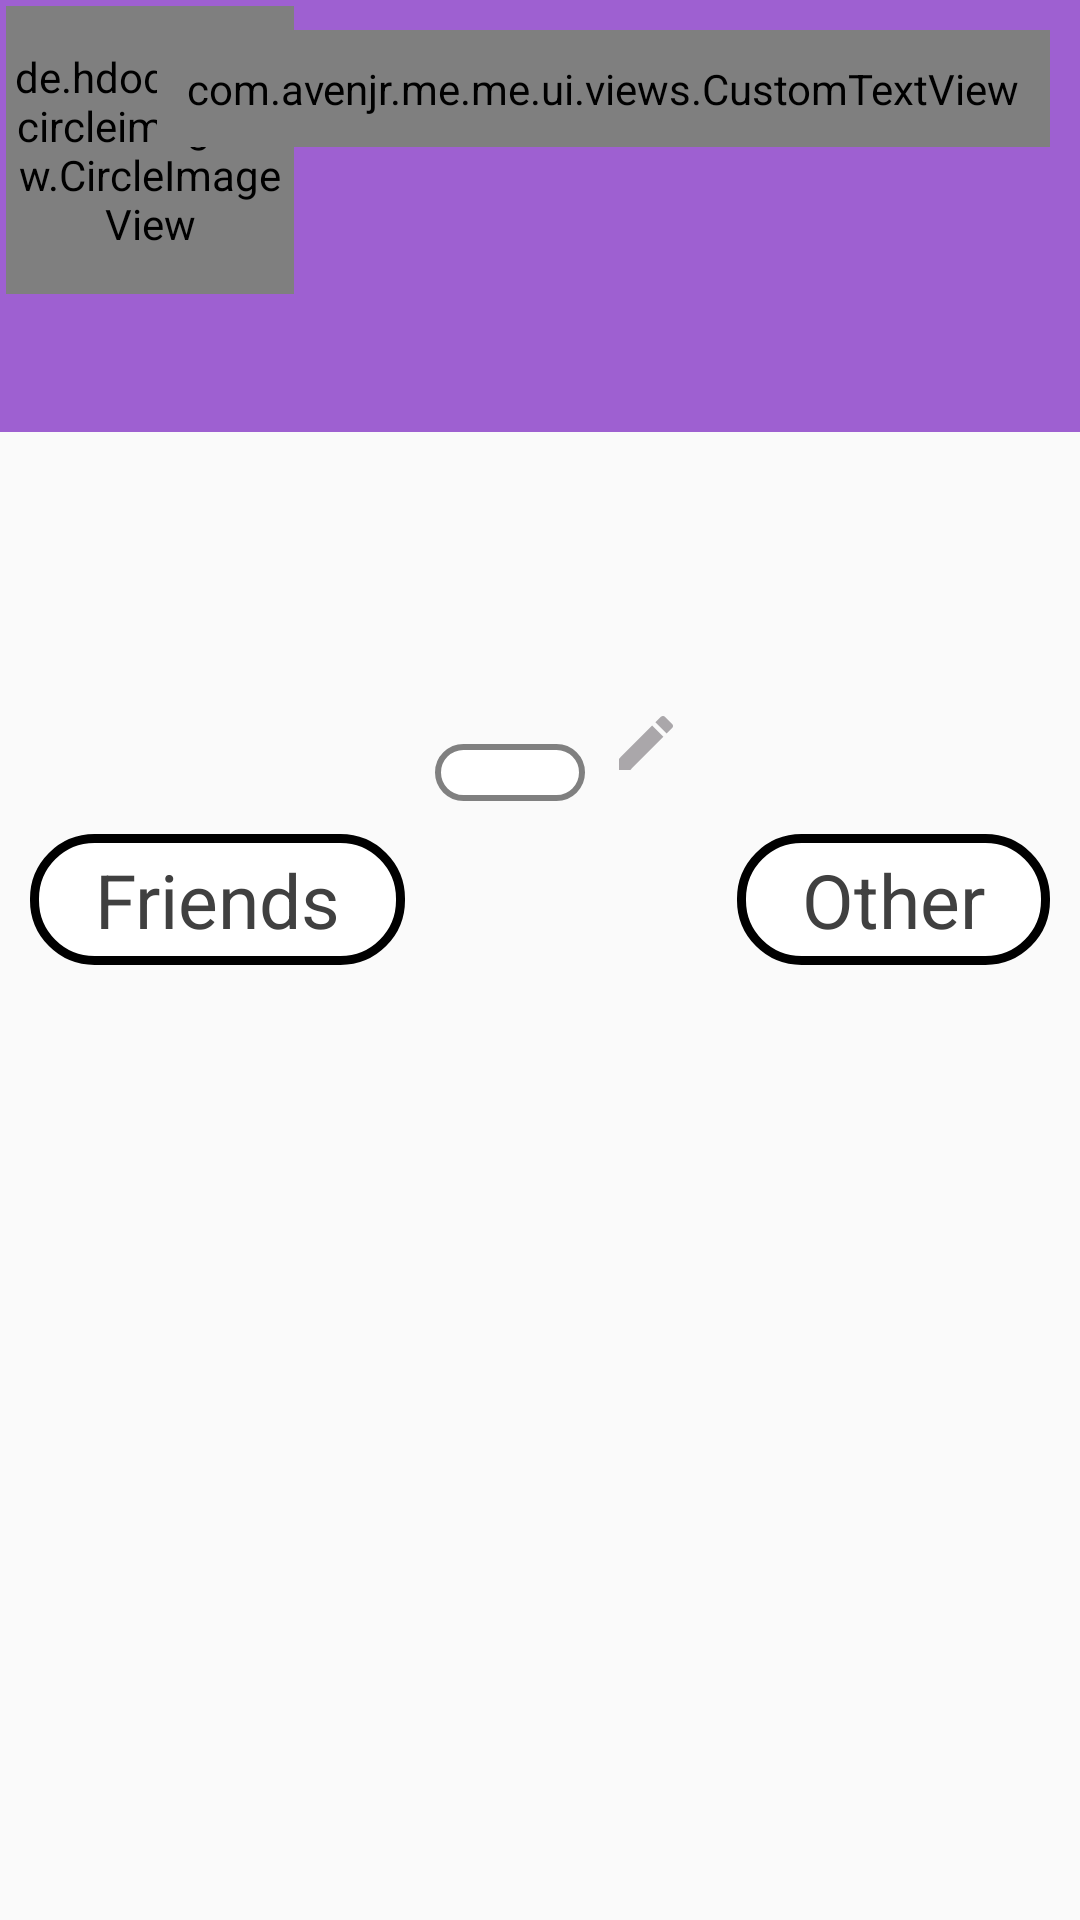

Screen size 1080x1920. Icon name, then its center in pixels as point (x, y):
edit: point (646, 743)
